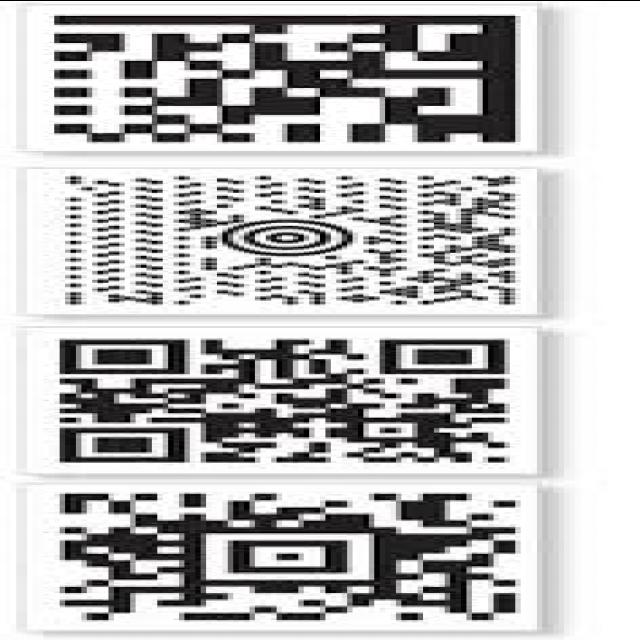DataMatrix: (32, 9, 532, 147)
